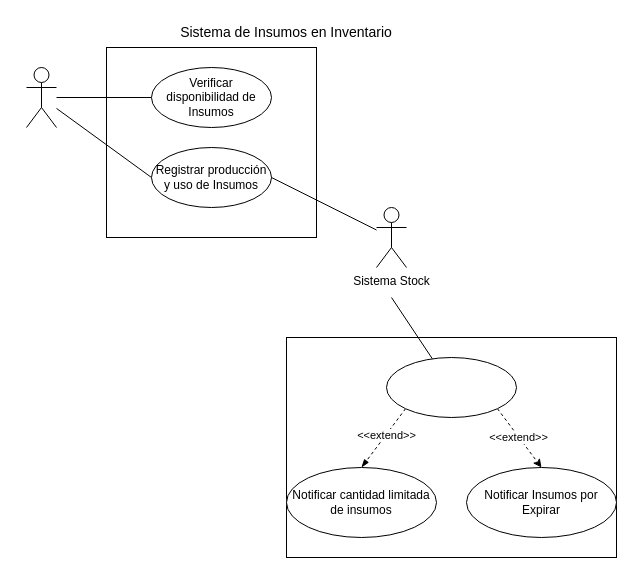
The diagram is 634 pixels wide and 575 high, and some of its shapes have lost their labels. The shapes that lost their labels are listed below. From the top down, each one's centre as x and y in pixels, then its label:
At (41,97): "Cocinero".
At (451,387): "Registrar Descuento de Insumo".
